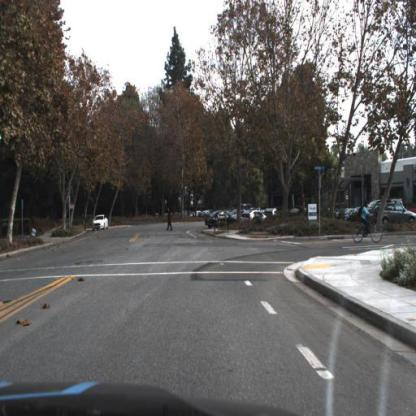biker: (353, 202, 382, 246)
car: (372, 199, 416, 232), (204, 210, 239, 231), (242, 208, 271, 231), (91, 214, 110, 231), (93, 215, 108, 232)
pedestrian: (166, 205, 174, 232)
